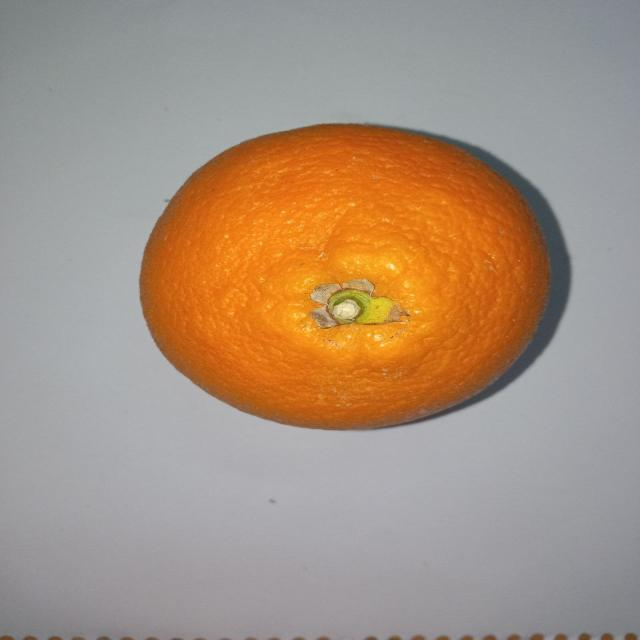fresh_orange: (138, 124, 550, 430)
